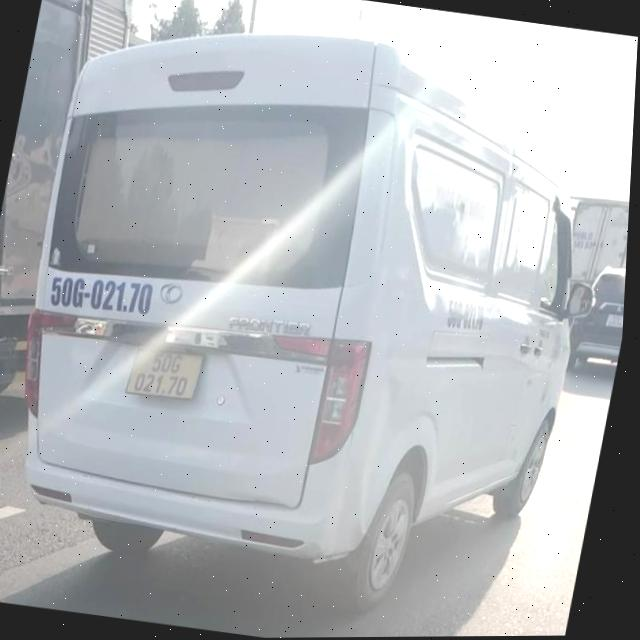car: (0, 0, 640, 640)
plate: (114, 333, 216, 409)
